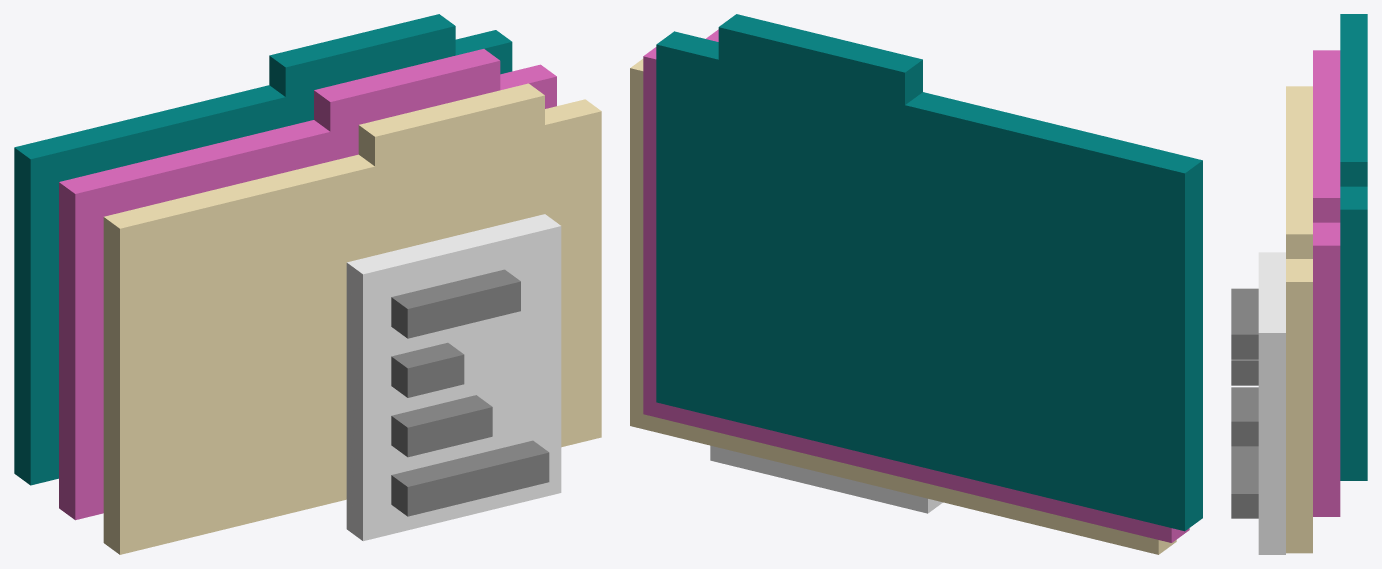
The model's file is projects.glb.
3 views of the same model, side by side, from view 1: azimuth 30°, elevation 25°; view 2: azimuth 150°, elevation 25°; view 3: azimuth 270°, elevation 25° (orthographic). The views are drawn at different scales.
Visible parts, largest first — view 1: ObjObject.002; view 2: ObjObject.002; view 3: ObjObject.002.
Boxes of the visible parts, left/top/right/bottom form: ObjObject.002: left=14, top=14, right=601, bottom=554; ObjObject.002: left=630, top=14, right=1202, bottom=554; ObjObject.002: left=1231, top=14, right=1367, bottom=554.
Size of the model in its own units: 1.9 by 1.5 by 0.5.
1 material, 1 textured.
